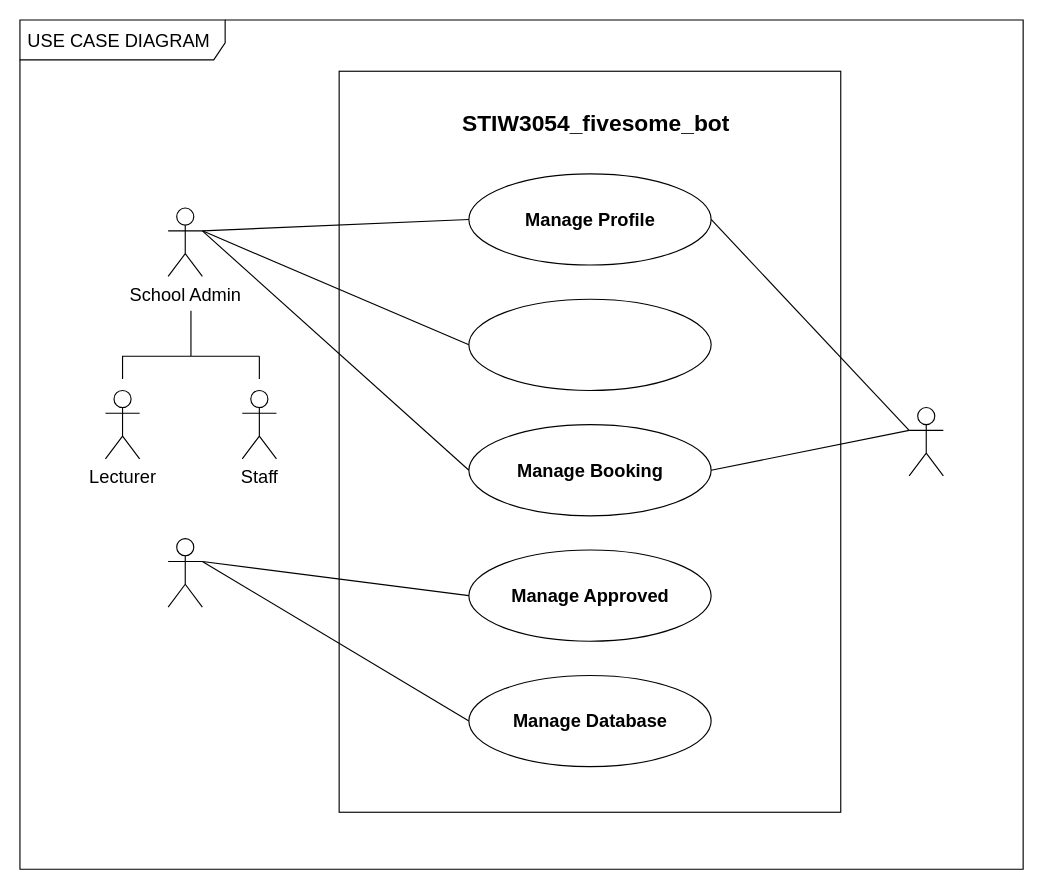
Some shapes in this 1043 by 889 pixel diagram are drawn without their labels. The shapes that lost their labels are listed below. From the top down, each one's box as (x1, y1, x2, y2) in pixels, then its label:
(468, 298, 711, 390): Manage Room
(908, 406, 943, 476): User
(167, 538, 202, 607): System Admin
